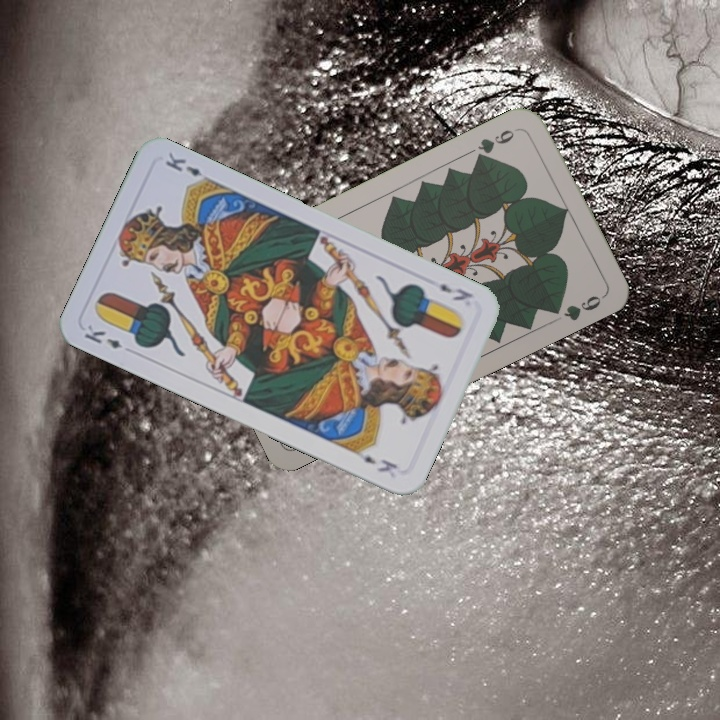EK: (80, 320, 124, 351), (435, 279, 476, 304)
G9: (472, 123, 523, 164)
